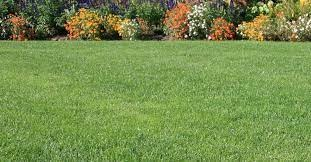grass: (2, 41, 309, 159)
